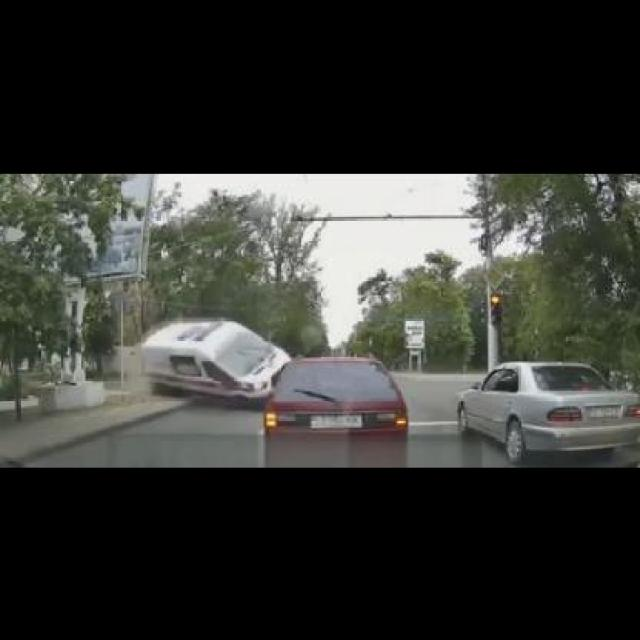accident: (115, 303, 297, 411)
